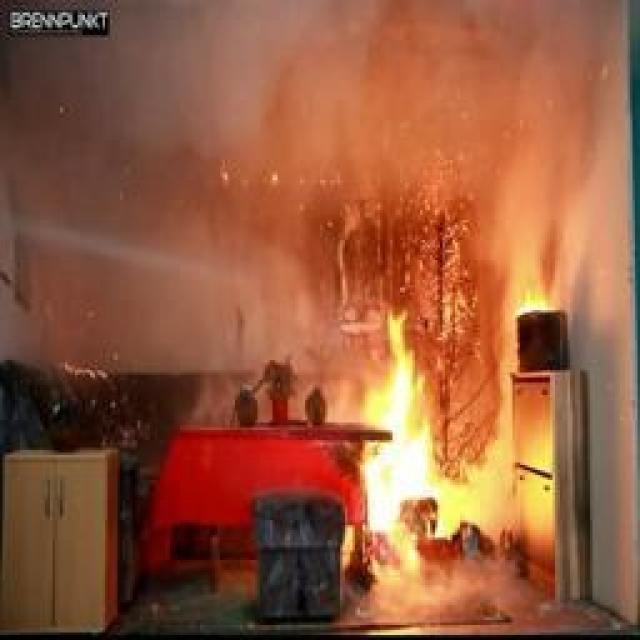fire: (330, 292, 475, 552)
smoke: (108, 12, 368, 272)
